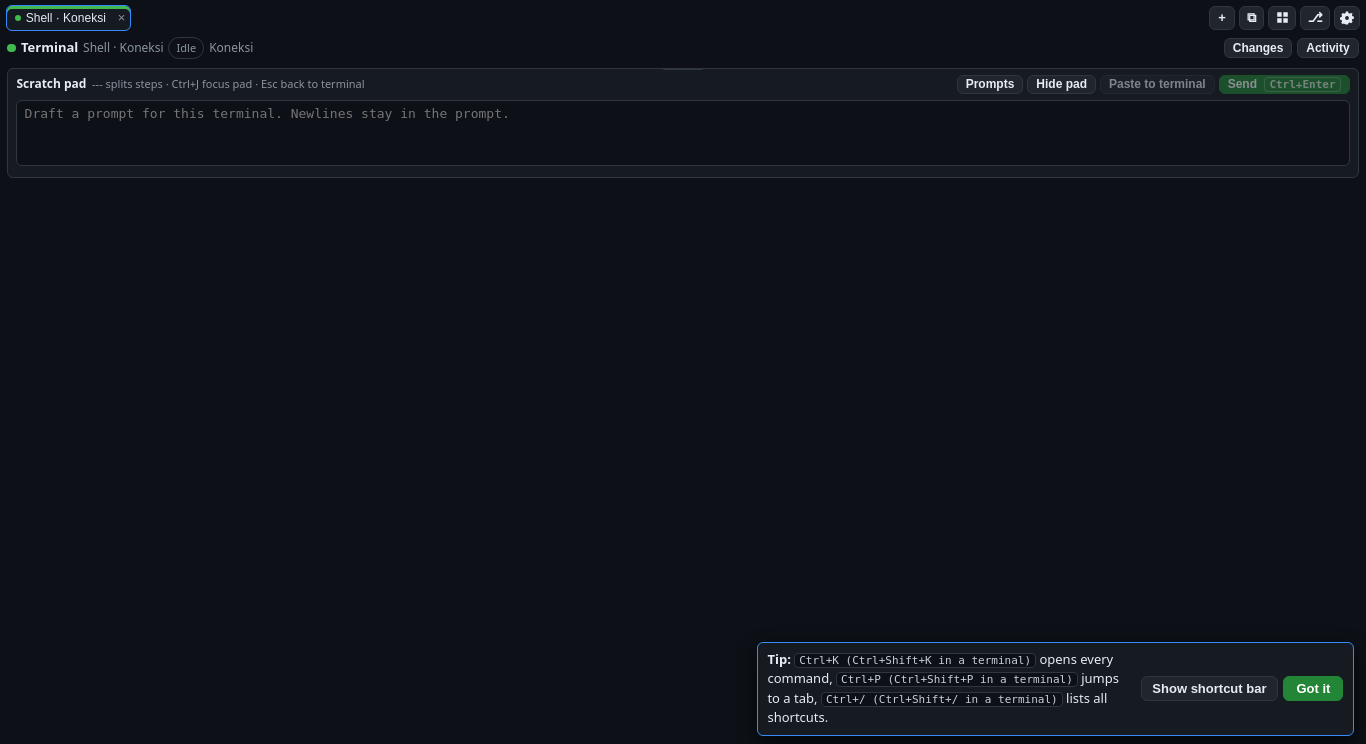
Scenario: prompt library (F6) › saves the scratch pad as a named prompt from the palette
The image size is (1366, 744).
Expected: the element "Scratch pad" is shown, x1=7 y1=68 x2=1359 y2=178
Replace the text in the text box named "Scratch pad editor" with "npm run check" at (683, 133), box x1=16 y1=100 x2=1350 y2=166
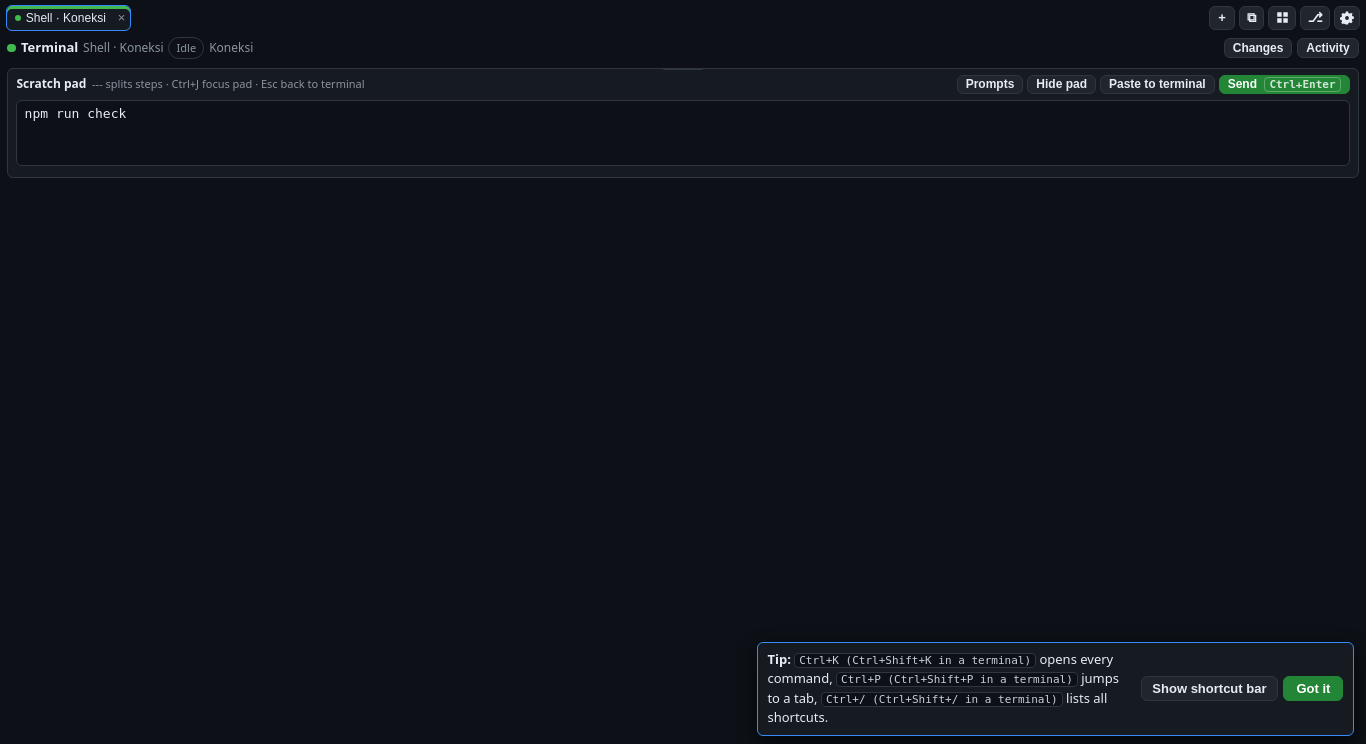
Press k
(page scrolled)
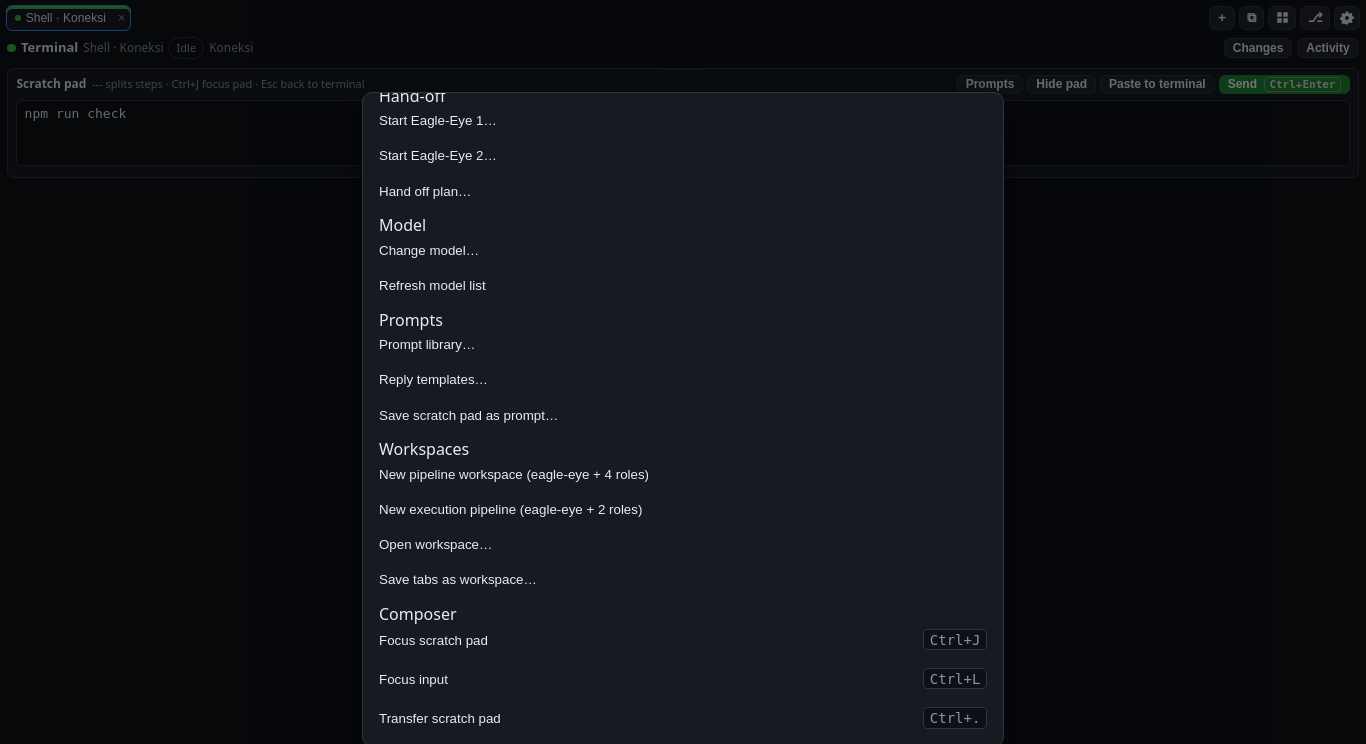
Click the button "Save scratch pad as prompt…" at (469, 415), box x1=379 y1=402 x2=987 y2=437
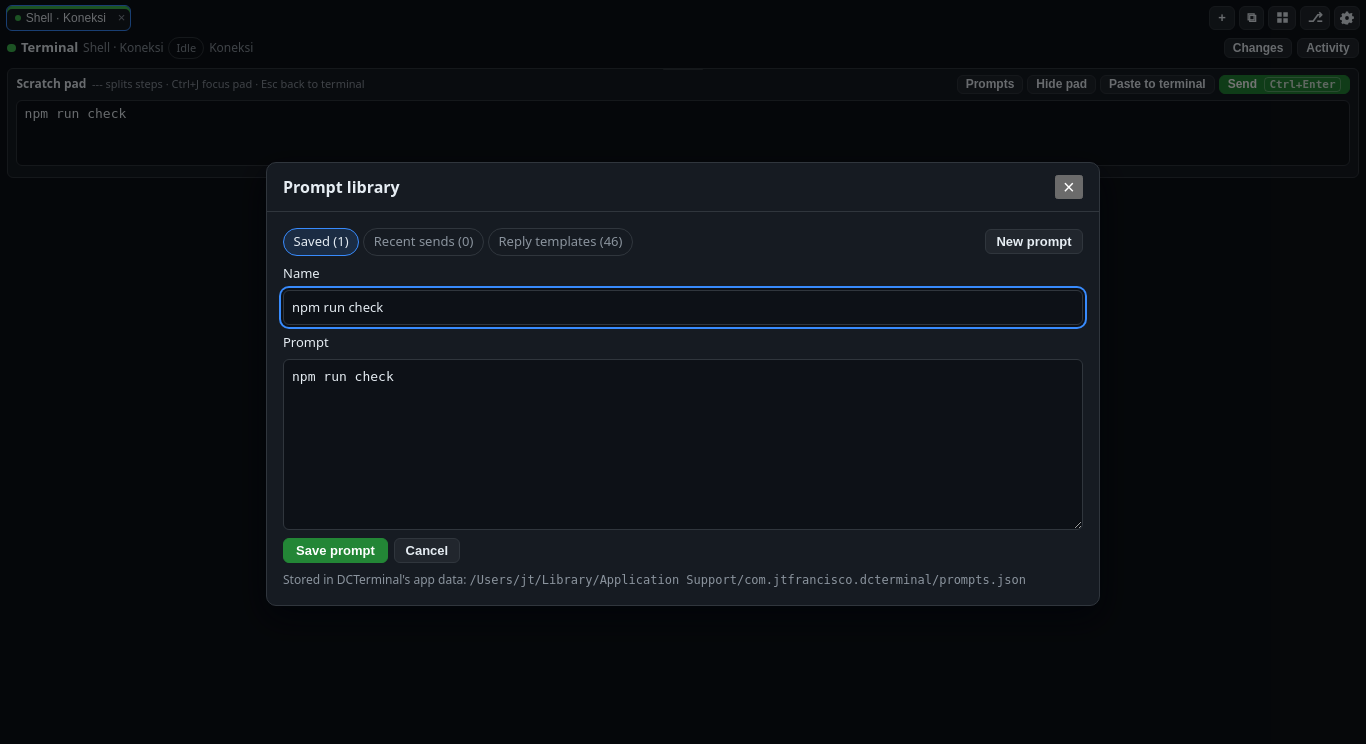
Expected: the text box named "Prompt text" holds "npm run check", x1=283 y1=359 x2=1083 y2=530
Replace the text in the field named "Prompt name" with "Run checks" at (683, 308), box x1=283 y1=290 x2=1083 y2=325
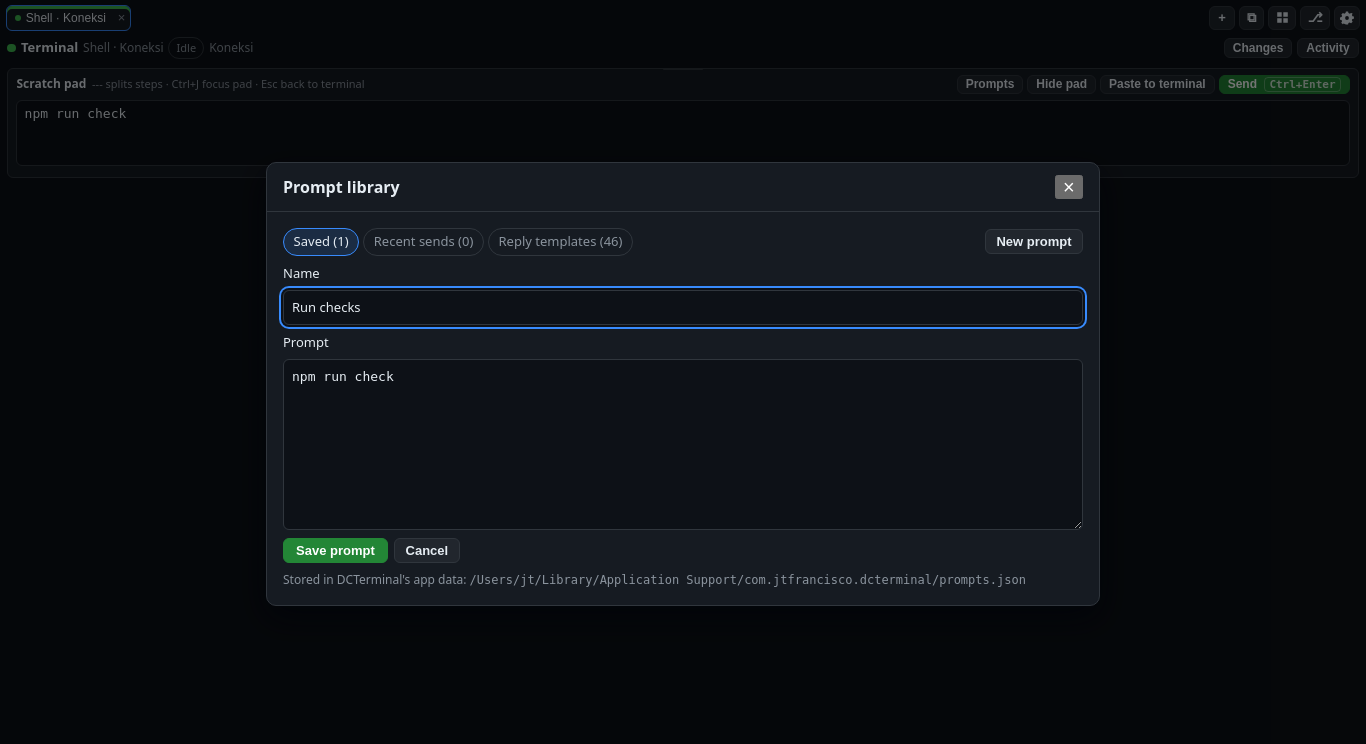
Click the button "Save prompt" at (335, 551), box x1=283 y1=538 x2=388 y2=563
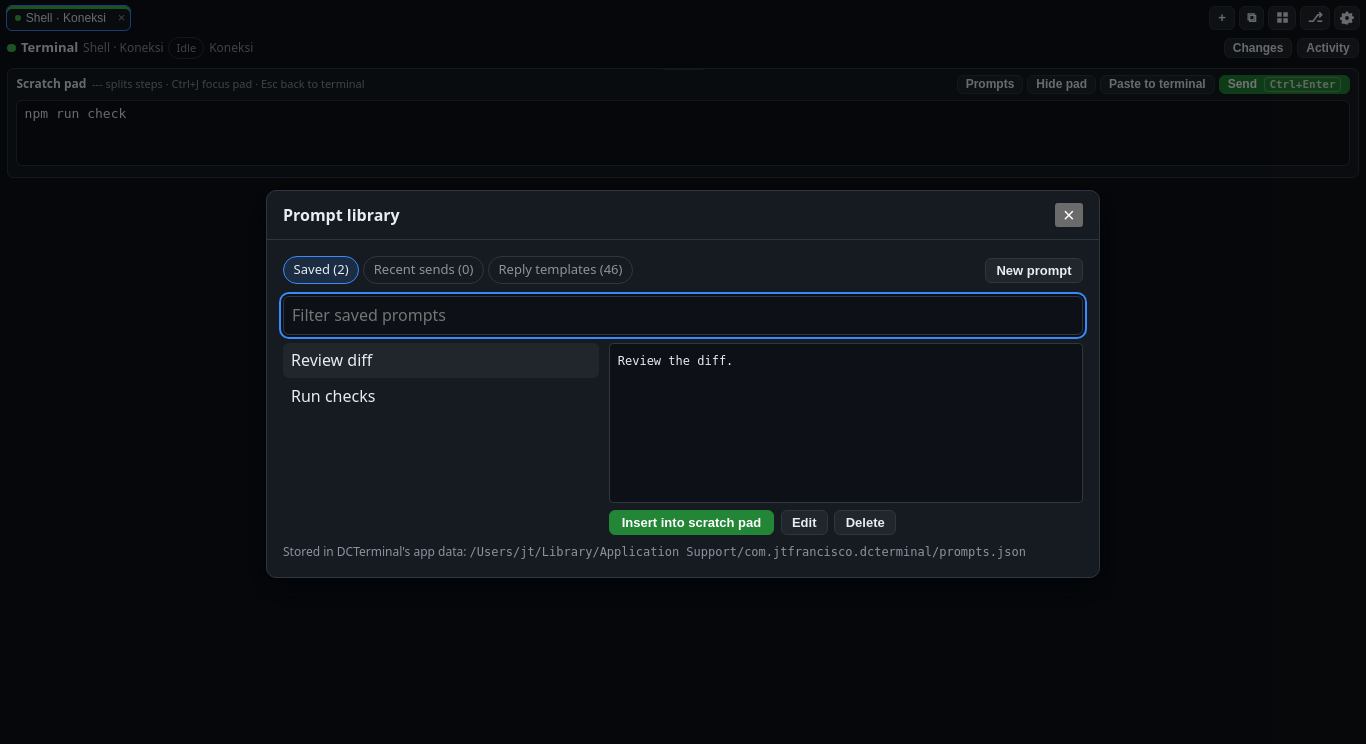
Expected: the option "Run checks" is shown, x1=291 y1=385 x2=375 y2=407
